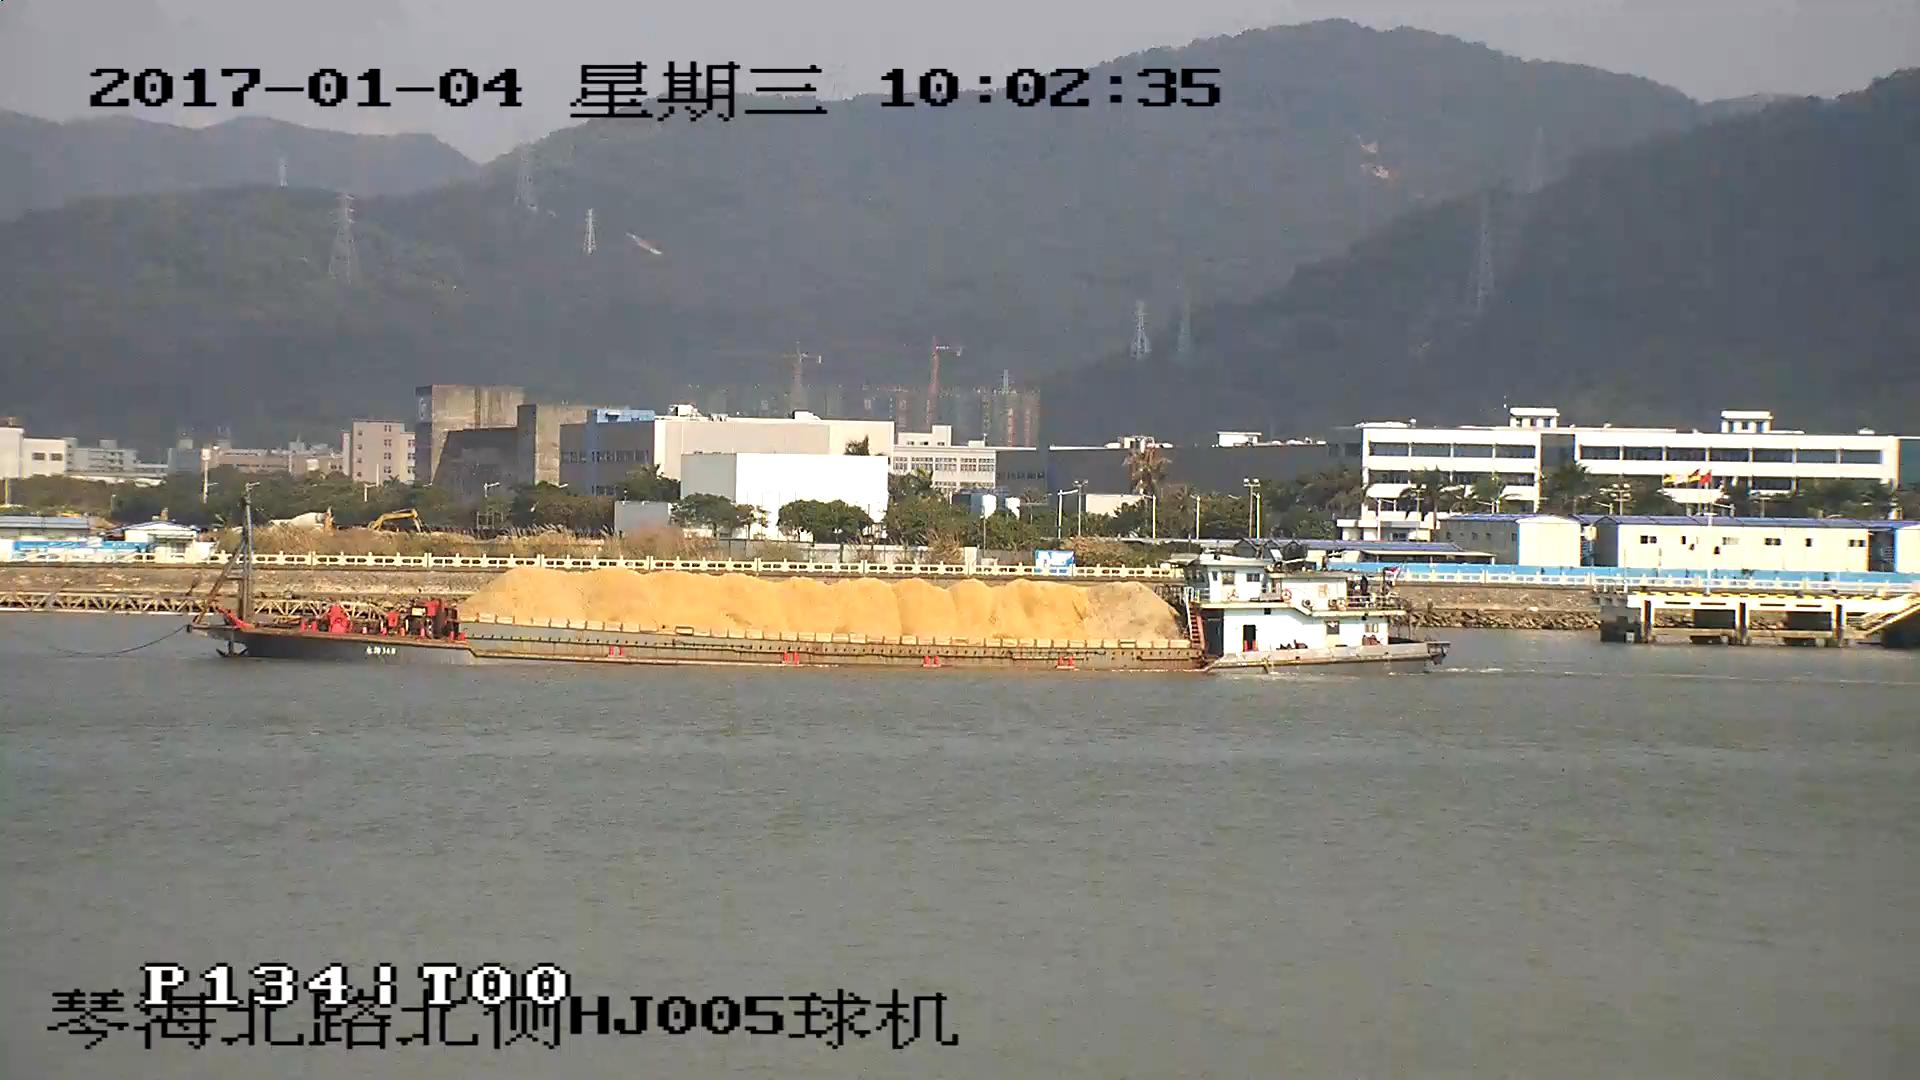ore carrier: (1, 498, 1451, 675)
